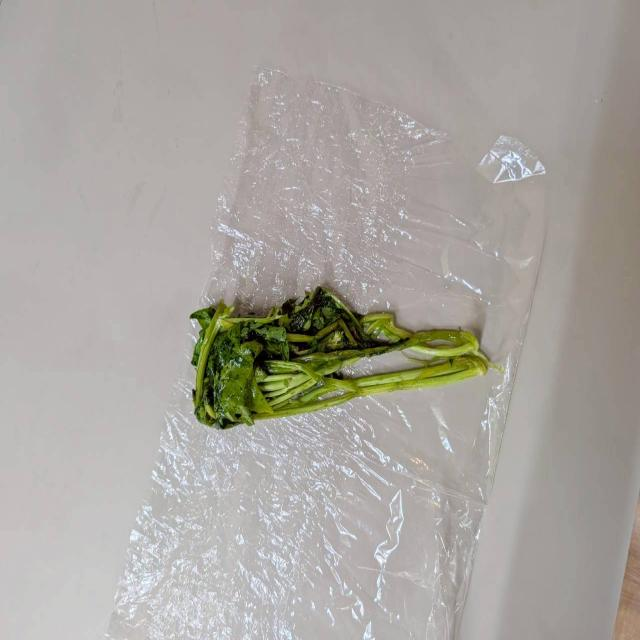rotten spinach: (190, 258, 485, 430), (302, 280, 484, 405), (213, 290, 372, 401)
